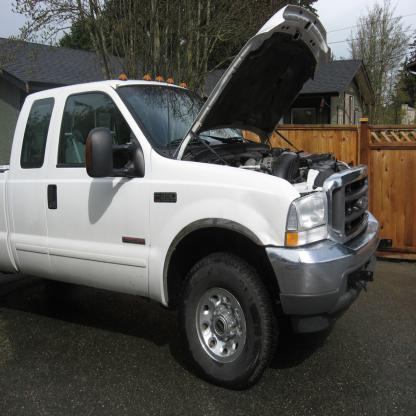Truck: (0, 4, 393, 390)
